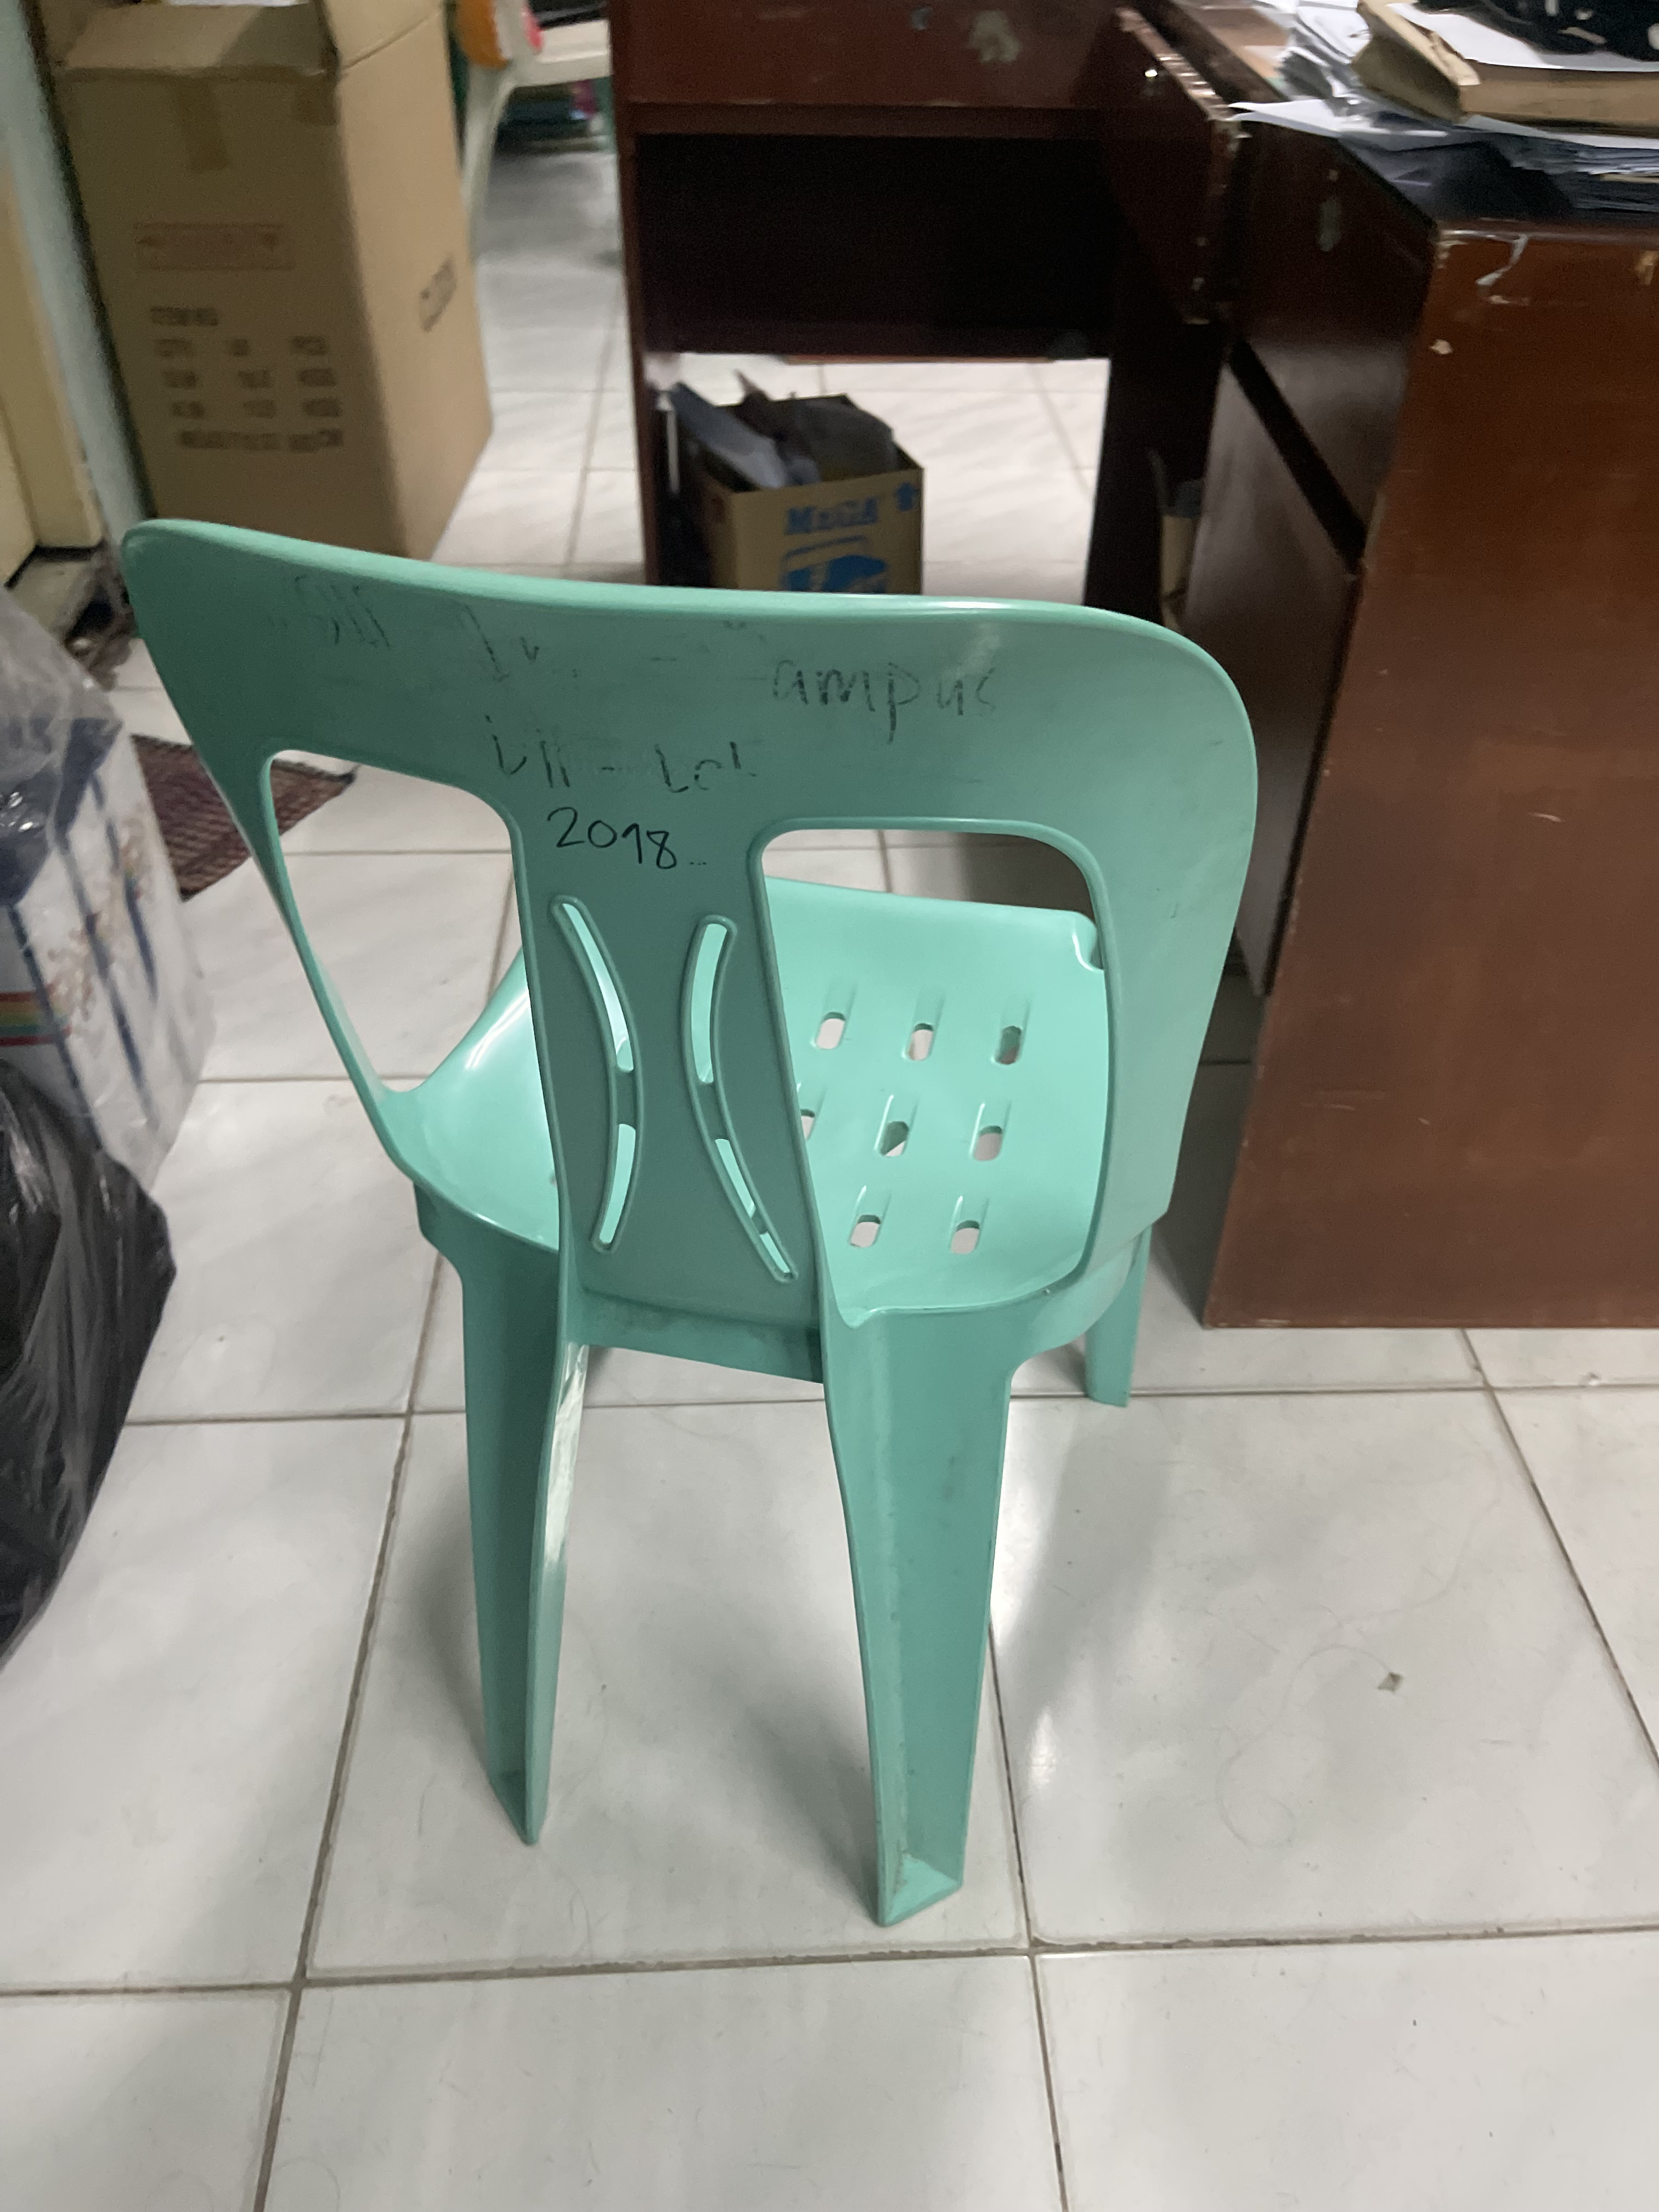chair2: (113, 514, 1251, 1928)
